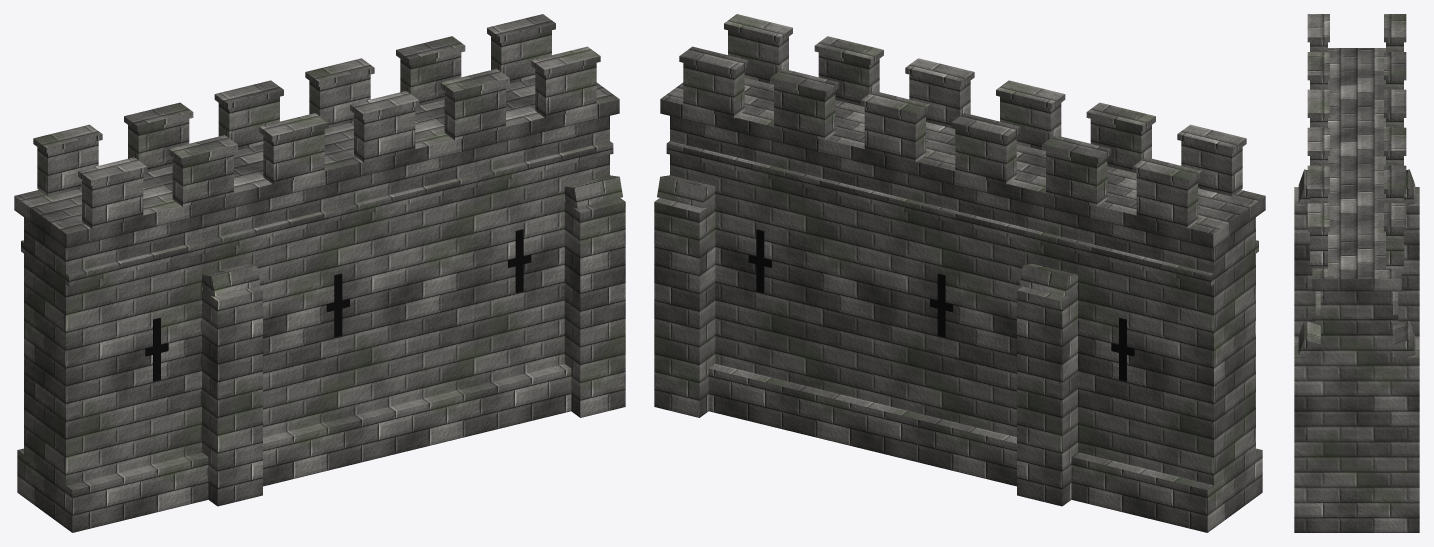
File: wall_12.obj
3 renders of one model, left to right at view 1: azimuth 30°, elevation 25°; view 2: azimuth 150°, elevation 25°; view 3: azimuth 270°, elevation 25°, orthographic. The views are drawn at different scales.
Size of the model in its own units: 12.2 by 7.36 by 2.8.
Materials: 2 (1 with a texture image).
